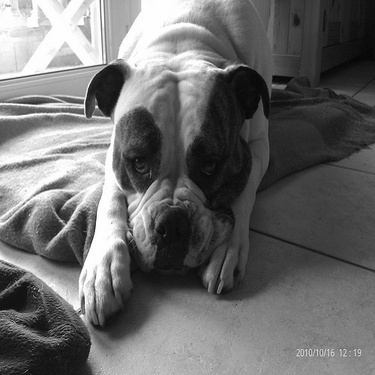dog: (76, 1, 280, 330)
